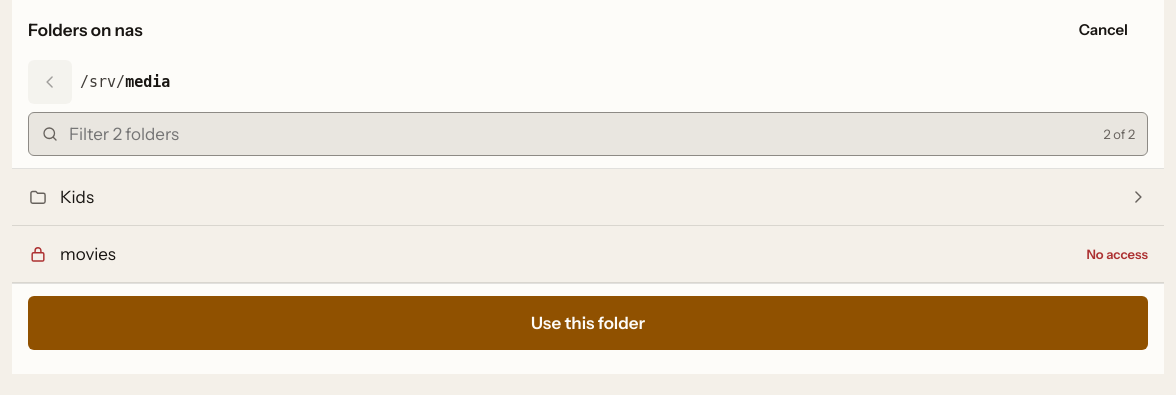
Test: FolderPicker › filters and says when nothing matches
Type "zzz" into the field labelled "Filter 2 folders" at x=581, y=134, box top-left (67, 114), bottom-right (1096, 154)
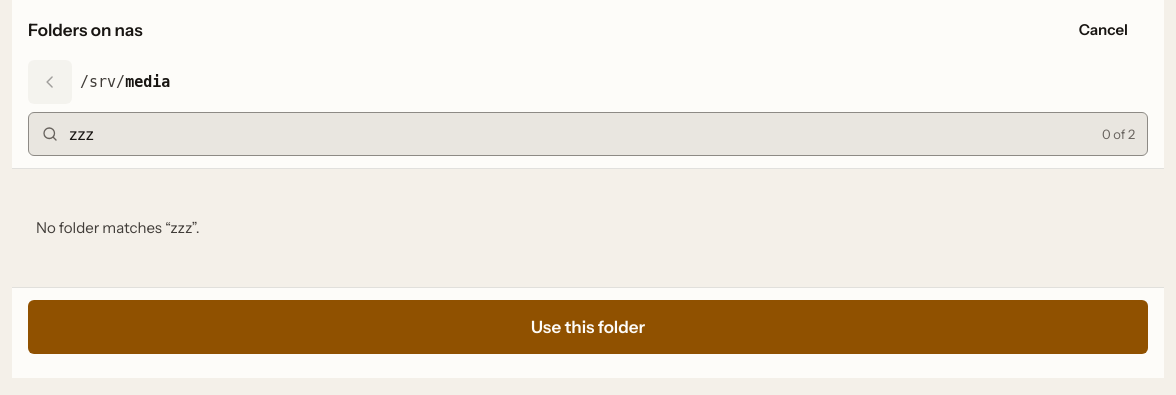
Expected: the text "No folder matches “zzz”." is shown, top-left (36, 217), bottom-right (200, 239)
Expected: the text "0 of 2" is shown, top-left (1102, 126), bottom-right (1135, 142)
